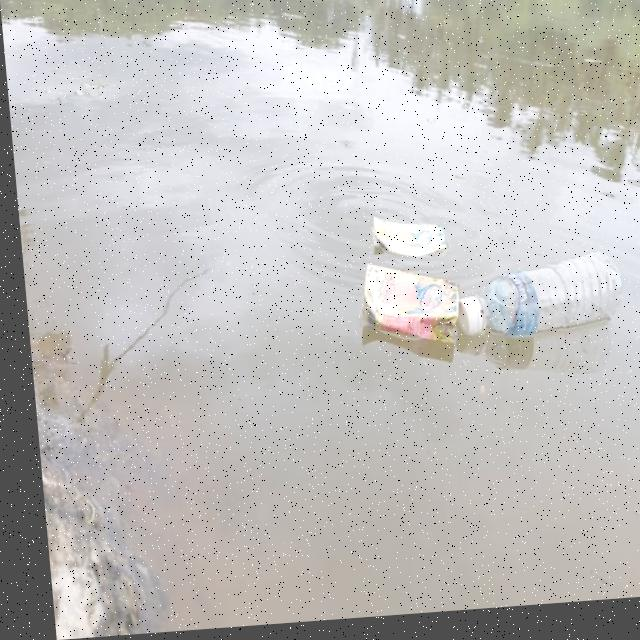paper: (352, 273, 447, 358), (357, 209, 446, 269)
waterbottle: (450, 248, 630, 360)
